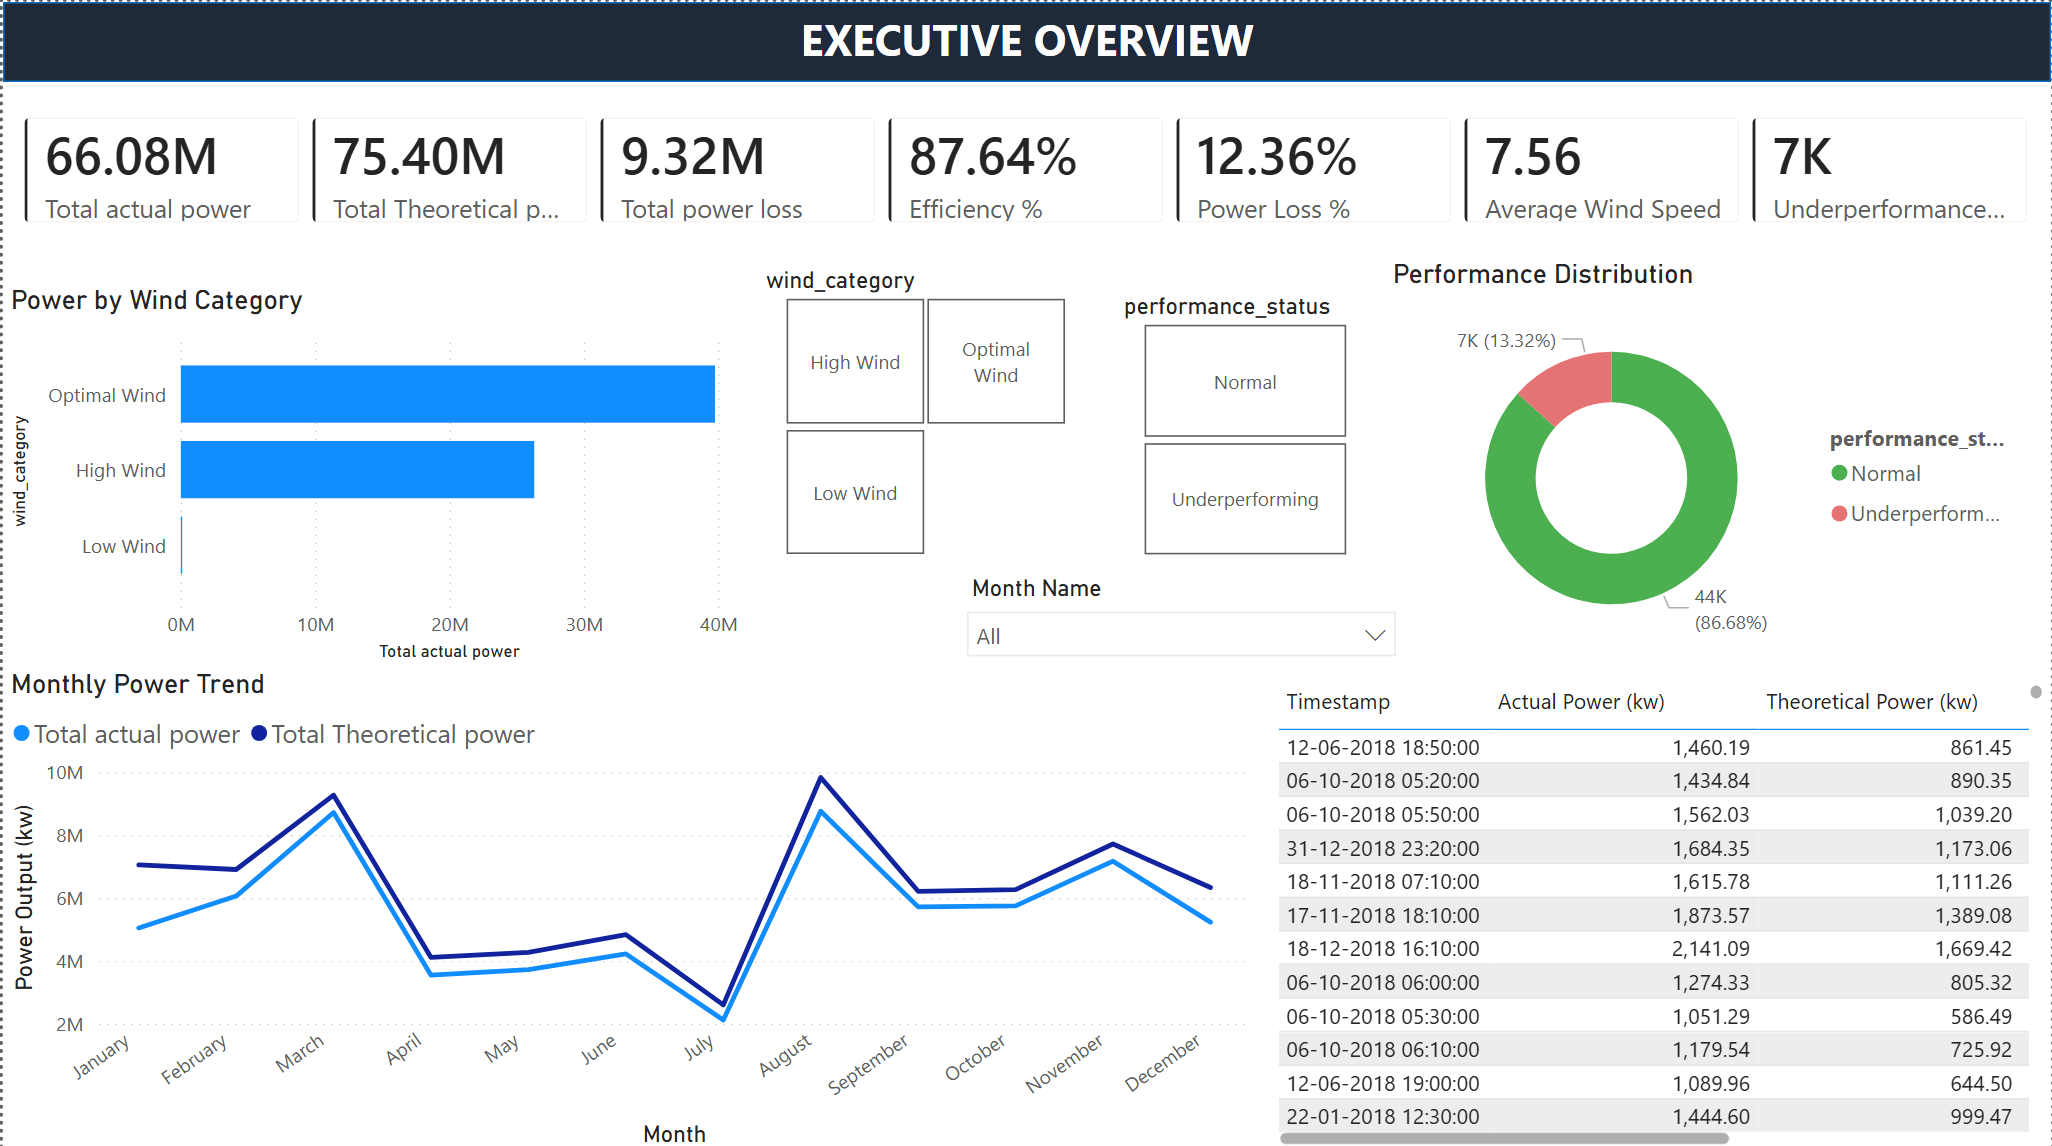

Layout of this report page (visuals, bound fields, positions):
{"tool":"powerbi","page":{"name":"Executive Overview","canvas":[1280,720],"ordinal":0},"visuals":[{"type":"lineChart","title":"Monthly Power Trend","fields":{"Y":["Date Table.Total actual power","Date Table.Total Theoretical power"],"Category":["Date Table.Date.Variation.Date Hierarchy.Month"]},"box":[0,416,784,304],"z":0},{"type":"clusteredBarChart","title":"Power by Wind Category","fields":{"Category":["wind_scada_analysis_202605160306.wind_category"],"Y":["Date Table.Total actual power"]},"box":[0,176,464,240],"z":1000},{"type":"donutChart","title":"Performance Distribution","fields":{"Y":["Date Table.Total Records"],"Category":["wind_scada_analysis_202605160306.performance_status"]},"box":[864,160,400,256],"z":2000},{"type":"slicer","fields":{"Values":["Date Table.Month Name"]},"box":[592,352,288,64],"z":3000},{"type":"slicer","fields":{"Values":["wind_scada_analysis_202605160306.wind_category"]},"box":[464,160,224,192],"z":4000},{"type":"slicer","fields":{"Values":["wind_scada_analysis_202605160306.performance_status"]},"box":[688,176,176,176],"z":5000},{"type":"cardVisual","fields":{"Data":["Date Table.Total actual power","Date Table.Total Theoretical power","Date Table.Total power loss","Date Table.Efficiency %","Date Table.Power Loss %","Date Table.Average Wind Speed","Date Table.Underperformance Count"]},"box":[1,55,1279,100],"z":6000},{"type":"tableEx","fields":{"Values":["wind_scada_analysis_202605160306.reading_timestamp","wind_scada_analysis_202605160306.actual_power_kw","wind_scada_analysis_202605160306.theoretical_power_kw","wind_scada_analysis_202605160306.power_loss_kw","Date Table.Efficiency %","wind_scada_analysis_202605160306.performance_status"]},"box":[791.2,420.9,489,298.7],"z":7000},{"type":"shape","box":[0,0,1280,50],"z":8000},{"type":"textbox","box":[0,0,1280,50],"z":9000}]}

Visuals, with their boxes in screenshot pixels (x1, y1, x2, y2), scaled from the page's 1280x720 canvas onto the 2052x1146 screenshot:
"Monthly Power Trend" lineChart: rect(0, 662, 1257, 1145)
"Power by Wind Category" clusteredBarChart: rect(0, 280, 744, 662)
"Performance Distribution" donutChart: rect(1385, 255, 2026, 662)
slicer - Date Table.Month Name: rect(949, 560, 1411, 662)
slicer - wind_scada_analysis_202605160306.wind_category: rect(744, 255, 1103, 560)
slicer - wind_scada_analysis_202605160306.performance_status: rect(1103, 280, 1385, 560)
cardVisual - Date Table.Total actual power x Date Table.Total Theoretical power: rect(2, 88, 2051, 247)
tableEx - wind_scada_analysis_202605160306.reading_timestamp x wind_scada_analysis_202605160306.actual_power_kw: rect(1268, 670, 2051, 1145)
shape: rect(0, 0, 2051, 80)
textbox: rect(0, 0, 2051, 80)
